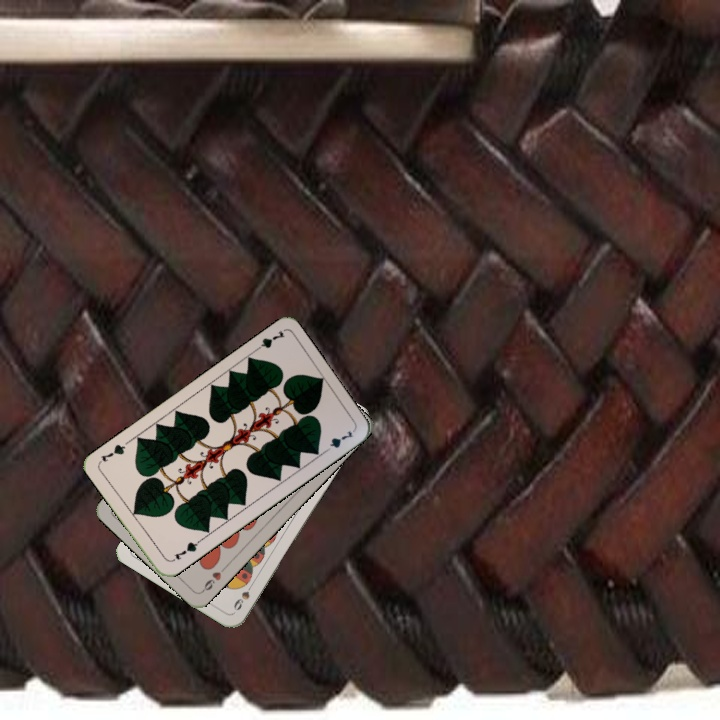G7: (249, 326, 287, 355), (167, 536, 203, 564)
H9: (198, 562, 229, 595)
S9: (229, 578, 257, 613)
